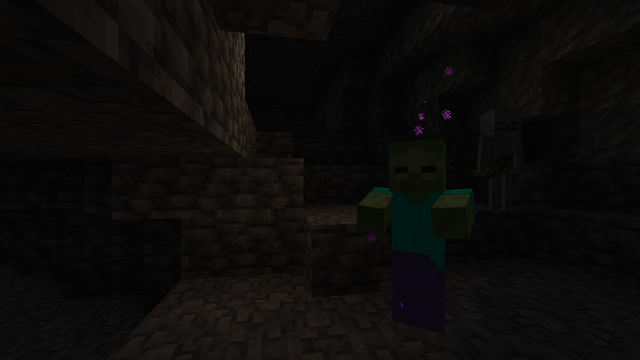squelettes: (475, 107, 526, 212)
zombies: (380, 144, 463, 355)
